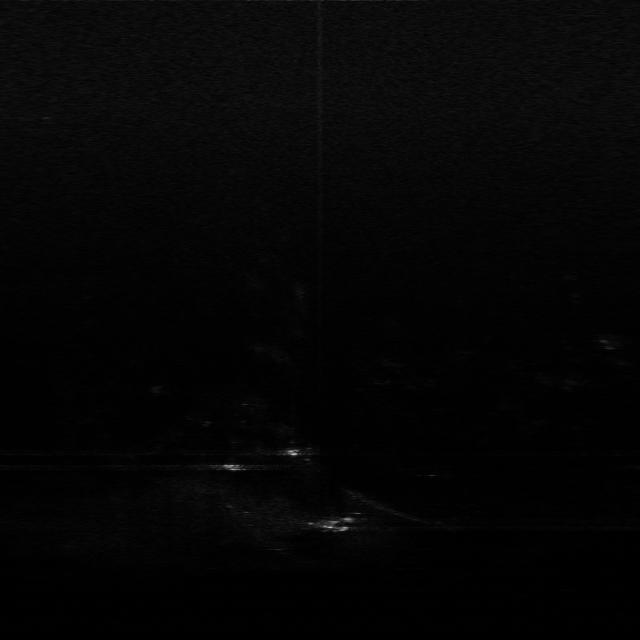rov: (304, 510, 362, 536)
